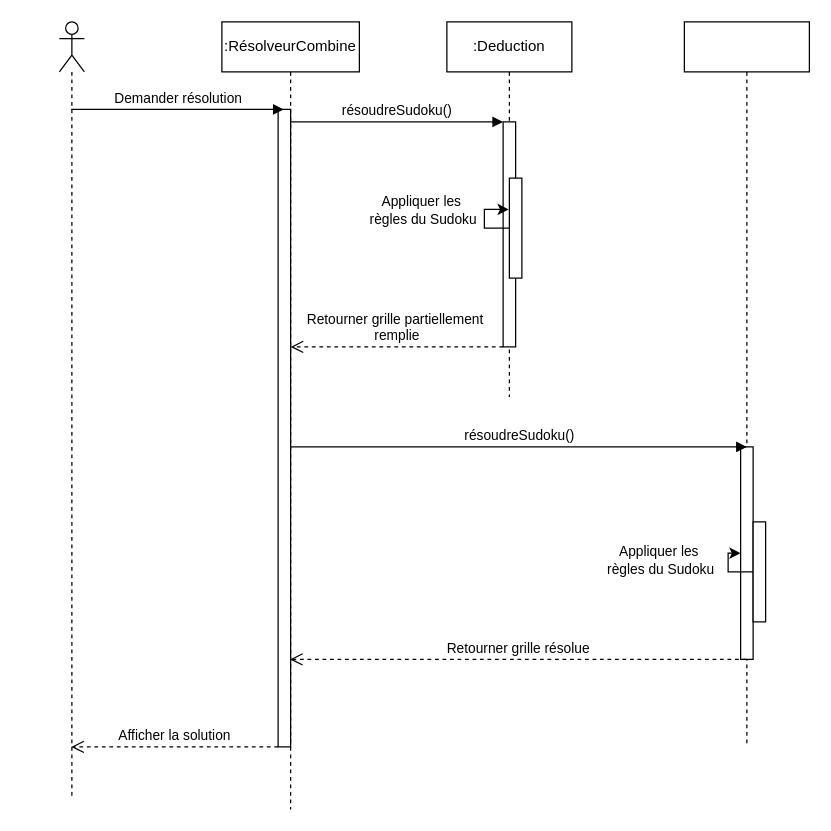
The diagram is 831 pixels wide and 831 high, and some of its shapes have lost their labels. Here are the shapes that lost their labels. From the top down, the box of each, then its label:
(683, 21, 809, 747): :Backtracking
(58, 21, 84, 797): Utilisateur
